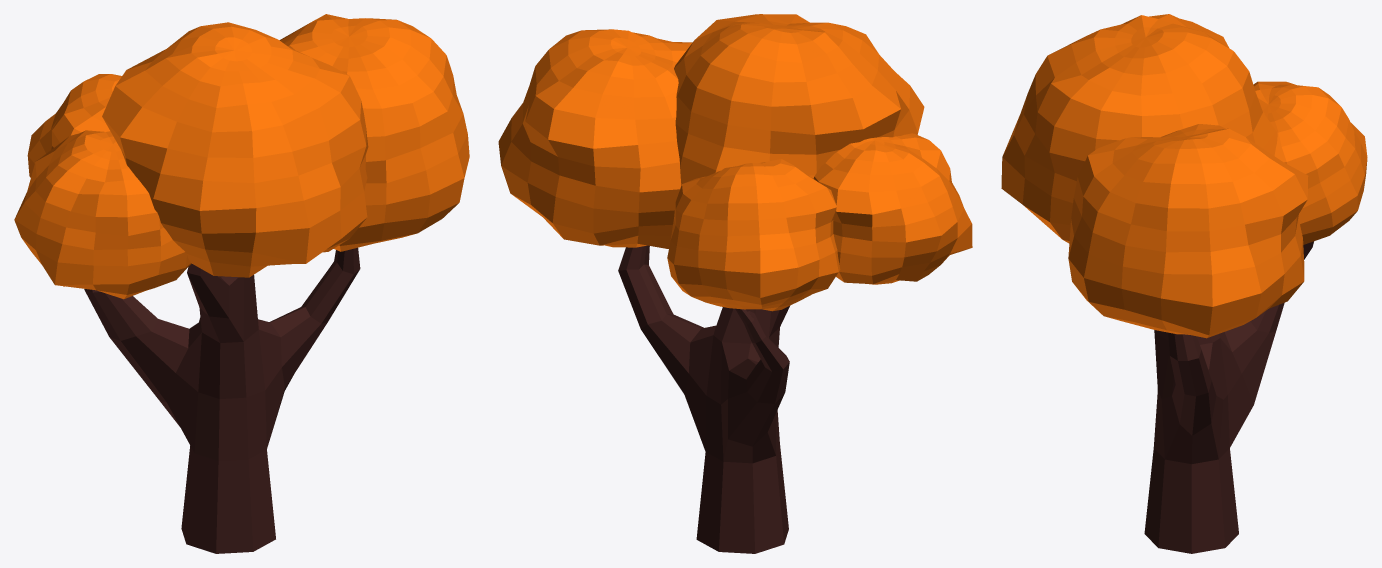
Rendered from Tree2.fbx.
The picture shows the model from 3 angles, left to right: view 1: azimuth 30°, elevation 25°; view 2: azimuth 150°, elevation 25°; view 3: azimuth 270°, elevation 25°; orthographic projection. The views are drawn at different scales.
Visible parts, largest first — view 1: Tree2; view 2: Tree2; view 3: Tree2.
Boxes of the visible parts, bbox=[...] form: Tree2: bbox=[14, 14, 469, 553]; Tree2: bbox=[498, 14, 972, 553]; Tree2: bbox=[1001, 14, 1367, 553].
Size of the model in its own units: 3119 by 3395 by 2282.
